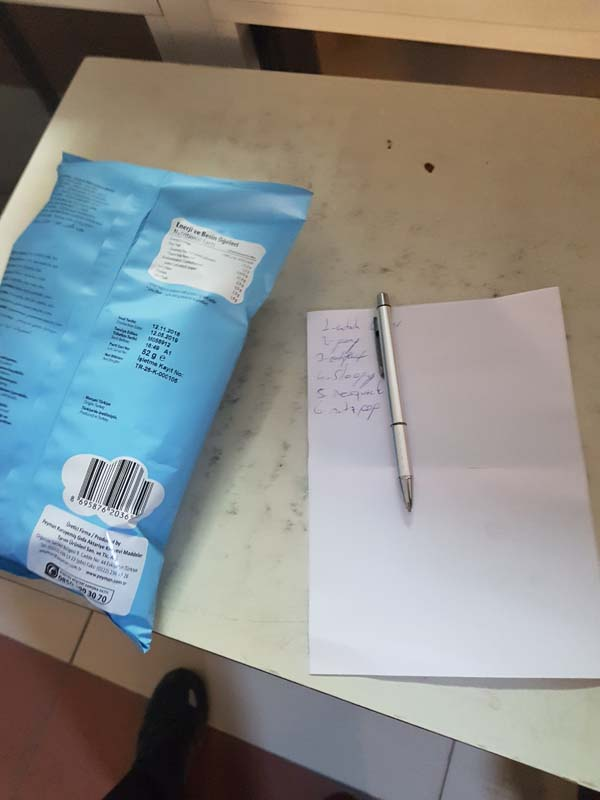popcorn: (2, 143, 318, 646)
